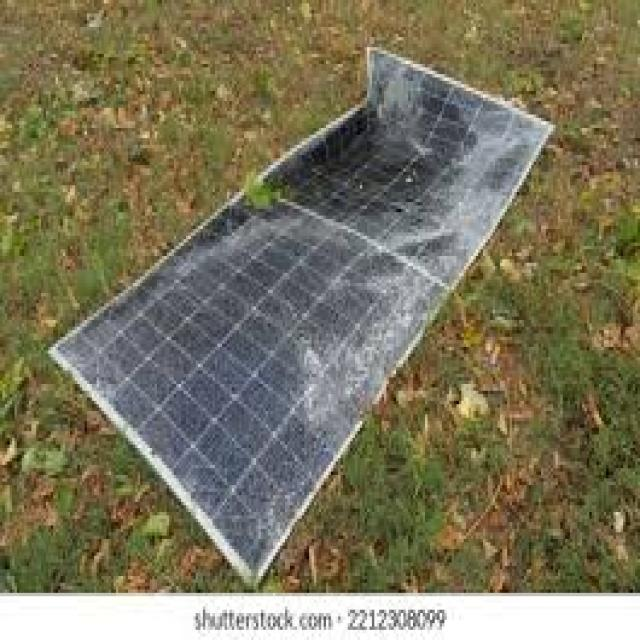faulty: (55, 58, 552, 568)
